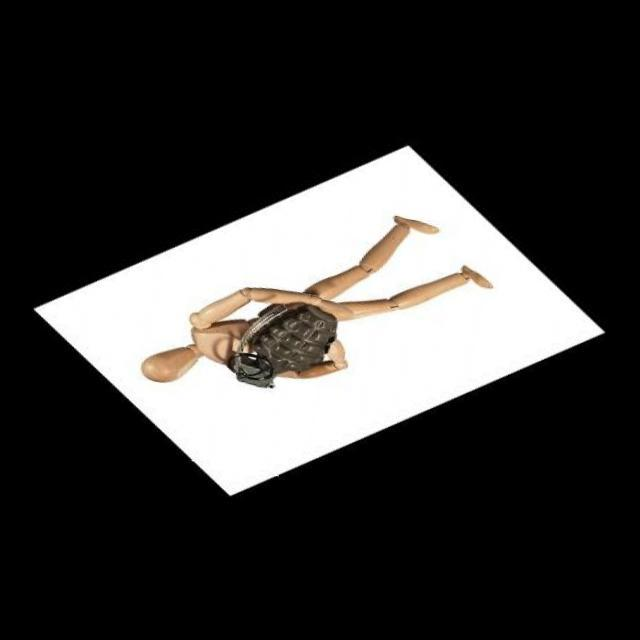grenade: (221, 294, 342, 410)
